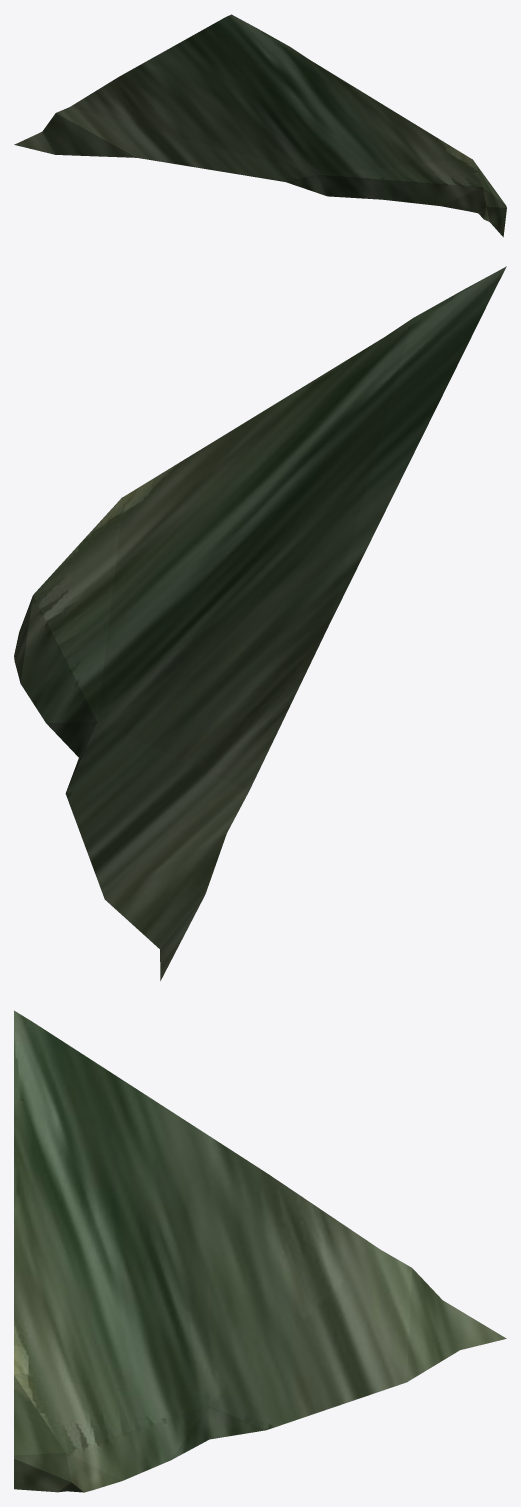
3 views of the same model, one above another, from view 1: azimuth 30°, elevation 25°; view 2: azimuth 150°, elevation 25°; view 3: azimuth 270°, elevation 25° (orthographic). The views are drawn at different scales.
Bounding box in the file's own units: 1.74 × 1.71 × 2.33.
1 material, 1 textured.
